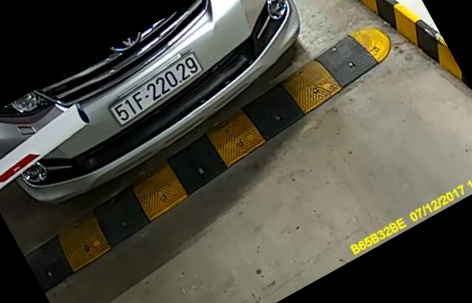plate: (111, 48, 205, 128)
